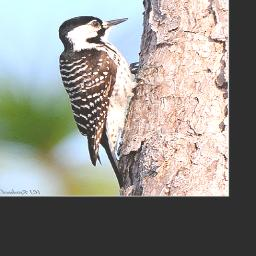Woodpecker: (53, 11, 145, 195)
